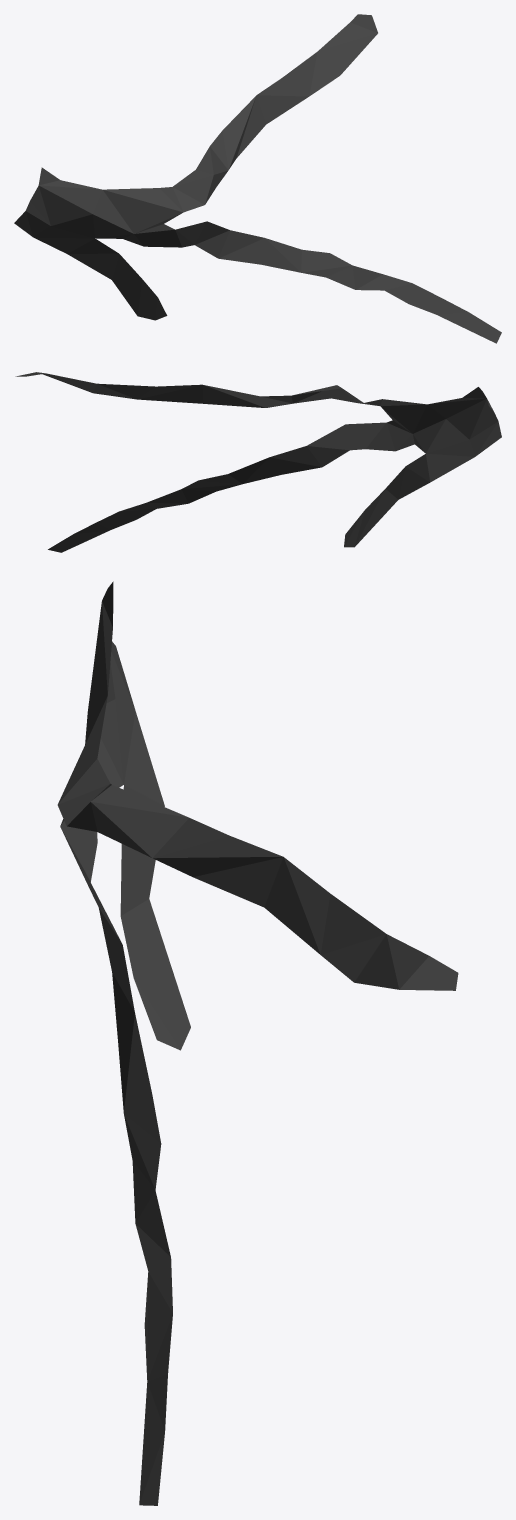
File: A_unused3_Group40746.glb
The picture shows the model from 3 angles, top to bottom: view 1: azimuth 30°, elevation 25°; view 2: azimuth 150°, elevation 25°; view 3: azimuth 270°, elevation 25°; orthographic projection. The views are drawn at different scales.
Visible parts, largest first — view 1: A_unused3_Group40746; view 2: A_unused3_Group40746; view 3: A_unused3_Group40746.
Boxes of the visible parts, x1,y1,x2,y2 form: A_unused3_Group40746: [14, 14, 501, 343]; A_unused3_Group40746: [15, 372, 501, 552]; A_unused3_Group40746: [57, 581, 458, 1505].
Size of the model in its own units: 0.0216 by 0.0122 by 0.00846.
1 material, 1 textured.
